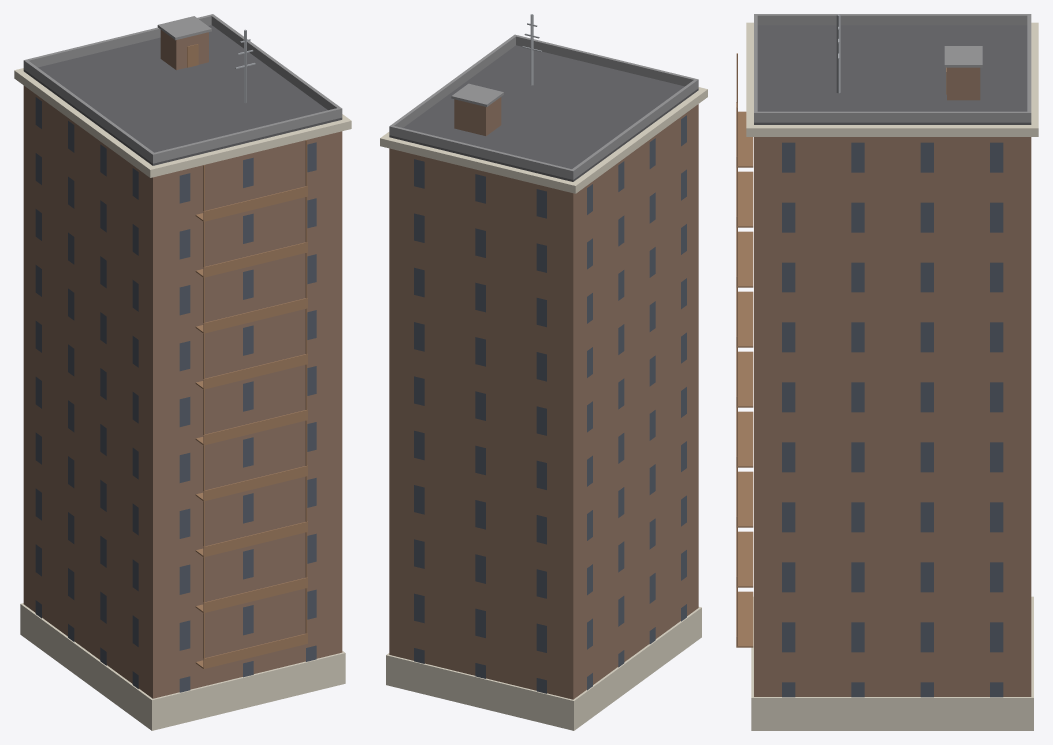
Rendered from bld_walkup_04.glb.
3 views of the same model, side by side, from view 1: azimuth 30°, elevation 25°; view 2: azimuth 150°, elevation 25°; view 3: azimuth 270°, elevation 25° (orthographic). The views are drawn at different scales.
Parts seen in each view (by area): view 1: bld_walkup_04; view 2: bld_walkup_04; view 3: bld_walkup_04.
Part boxes in pixels (bbox=[...]): bld_walkup_04: bbox=[14, 14, 351, 730]; bld_walkup_04: bbox=[380, 14, 707, 730]; bld_walkup_04: bbox=[736, 14, 1038, 730].
Bounding box in the file's own units: 11.7 × 35.42 × 14.18.
